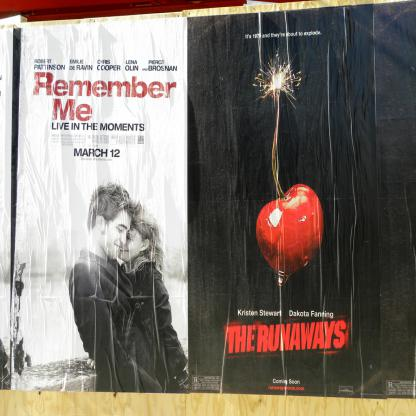book: (0, 0, 404, 408)
